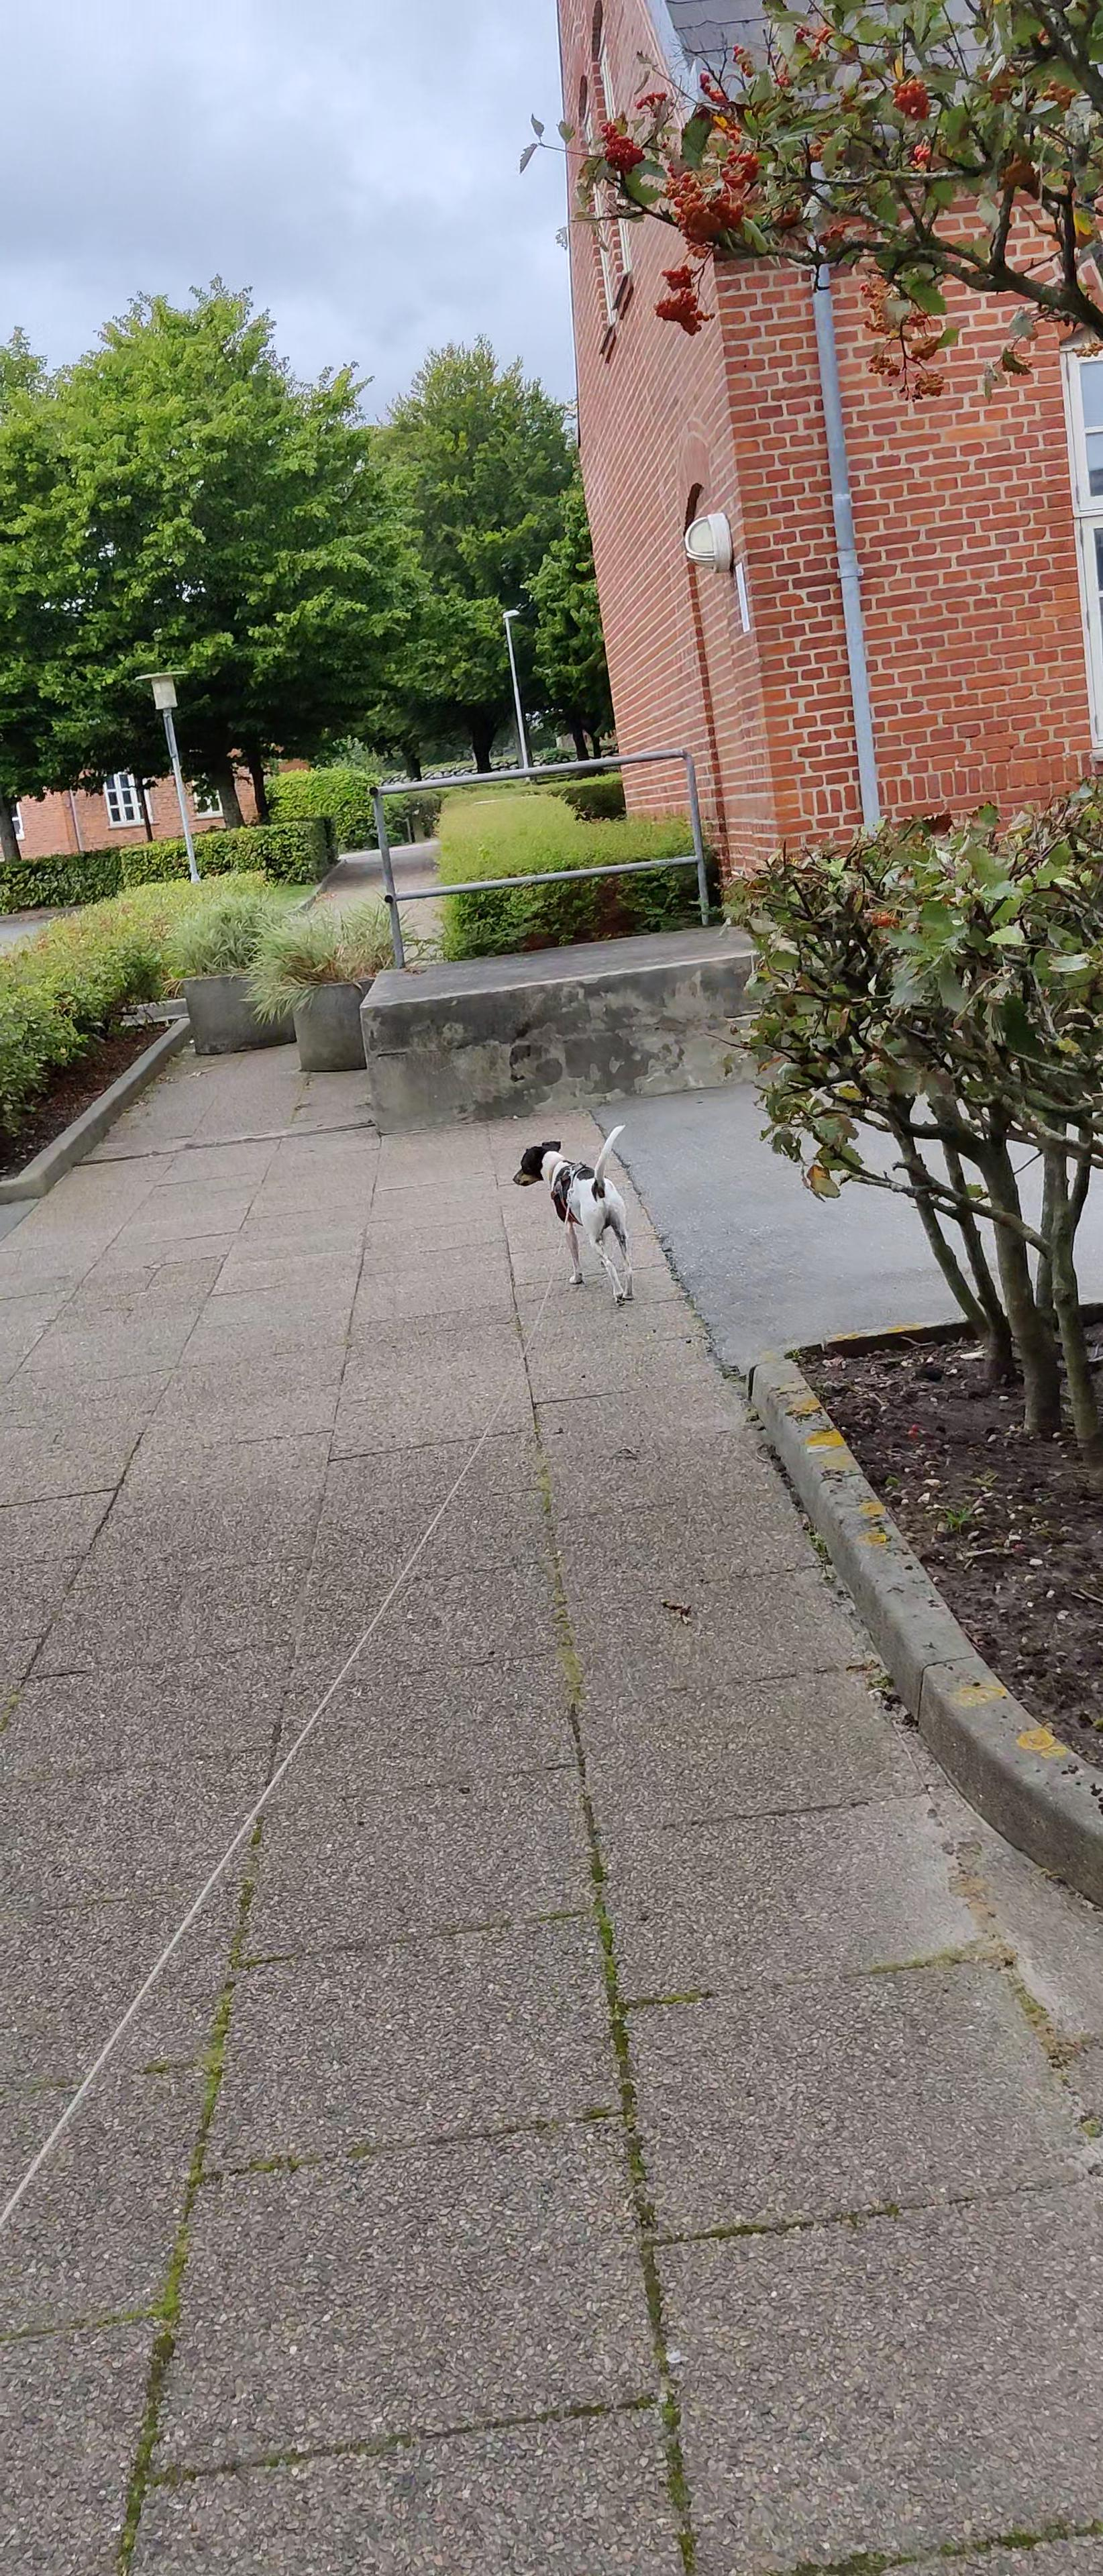Dog: (498, 1112, 648, 1313)
